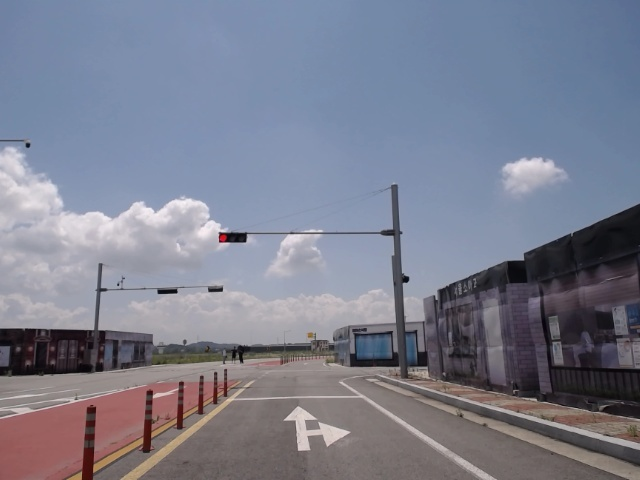red_3: (218, 232, 249, 243)
